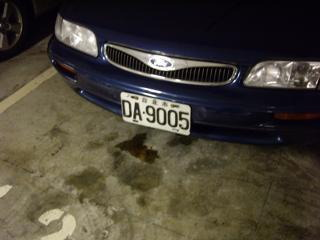plate: (117, 89, 193, 138)
